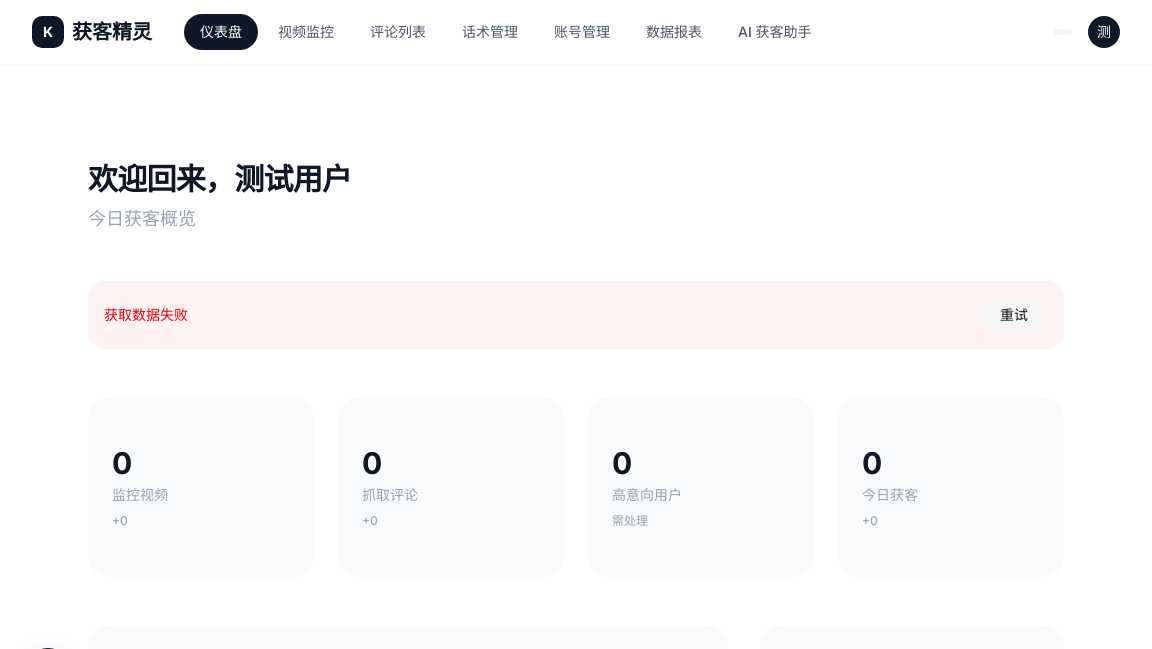
dashboard/page.tsx 数据加载失败态 › 点击「重试」重新拉取，成功后渲染空态
The width and height of the screenshot is (1152, 649).
Click the button "重试" at point(1014, 315), box [980,297,1048,333]
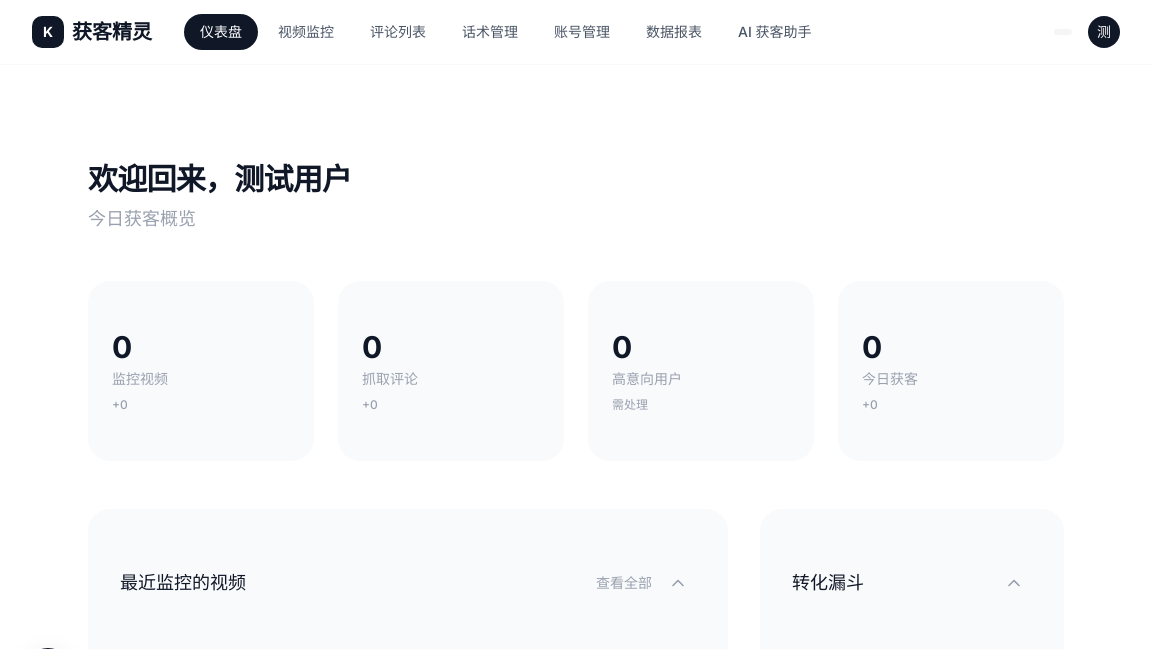
Now the text "获取数据失败" is gone
